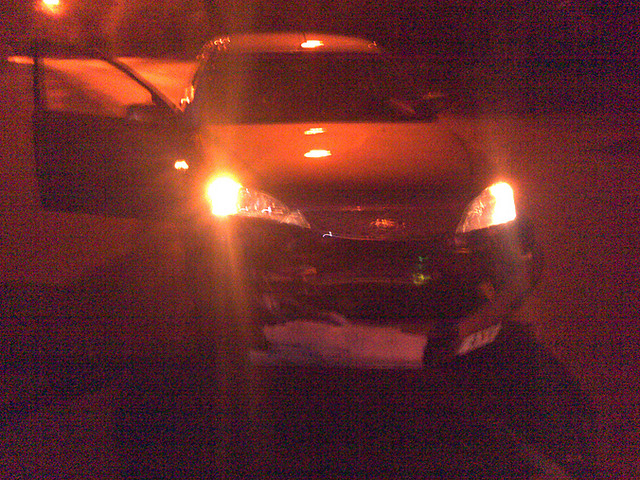car: (30, 16, 557, 388)
